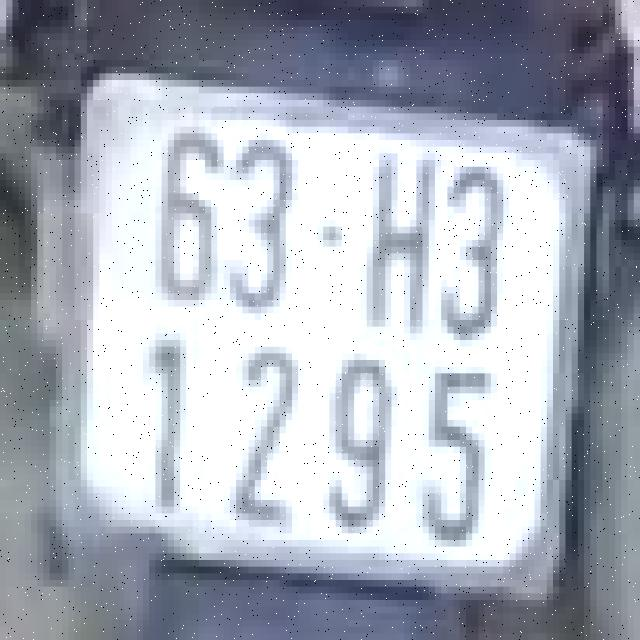1: (143, 327, 186, 520)
2: (230, 340, 298, 533)
3: (233, 133, 301, 320), (441, 166, 510, 346)
5: (423, 366, 497, 546)
6: (146, 130, 221, 303)
9: (320, 353, 401, 540)
H: (364, 147, 438, 333)
